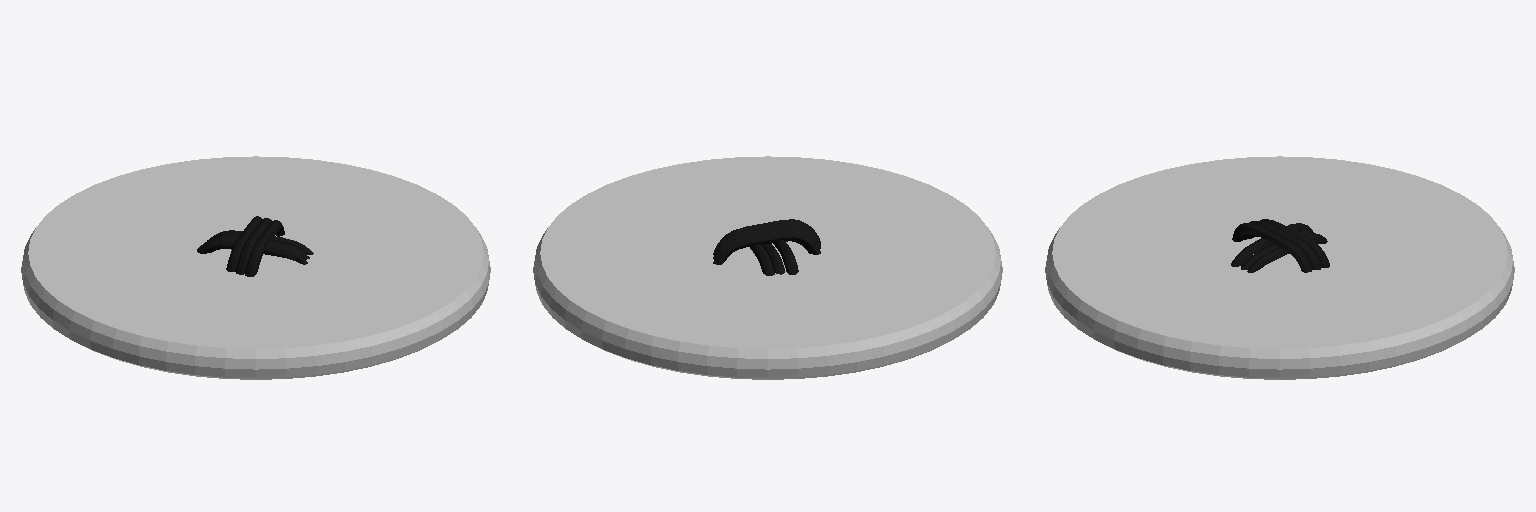
The model's file is AFO_Buttons_001.obj.
The picture shows the model from 3 angles: view 1: azimuth 30°, elevation 25°; view 2: azimuth 150°, elevation 25°; view 3: azimuth 270°, elevation 25°; orthographic projection.
Parts seen in each view (by area): view 1: Button_12MM_Base, Thread; view 2: Button_12MM_Base, Thread; view 3: Button_12MM_Base, Thread.
Part boxes in pixels (x1,y1,x2,y2): Button_12MM_Base: (21,156,490,379); Thread: (197,216,313,276); Button_12MM_Base: (533,156,1002,379); Thread: (713,219,820,275); Button_12MM_Base: (1045,156,1514,379); Thread: (1231,219,1329,272).
Size of the model in its own units: 0.012 by 0.0016 by 0.012.